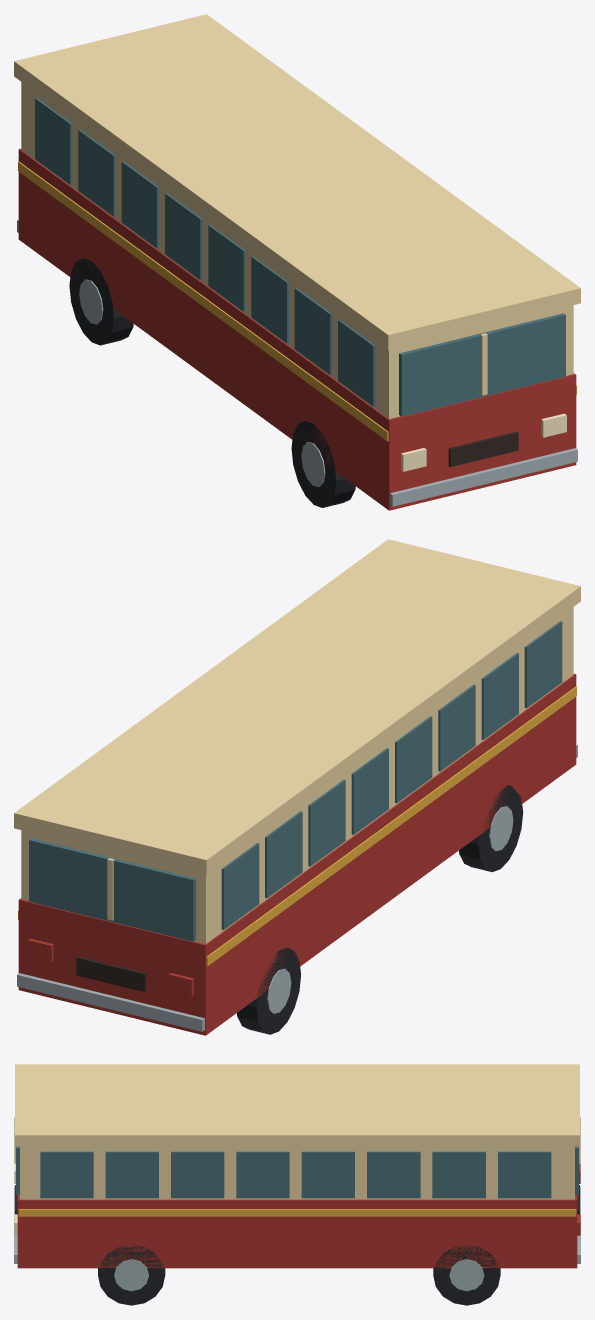
File: Local_Bus.glb
The picture shows the model from 3 angles, top to bottom: view 1: azimuth 30°, elevation 25°; view 2: azimuth 150°, elevation 25°; view 3: azimuth 270°, elevation 25°; orthographic projection. The views are drawn at different scales.
Parts seen in each view (by area): view 1: Local_Bus, Wheel_2, Wheel_1; view 2: Local_Bus, Wheel_2, Wheel_1; view 3: Local_Bus, Wheel_4, Wheel_3.
Boxes of the visible parts, <box> form: Local_Bus: <box>14,14,580,510</box>; Wheel_2: <box>69,258,133,345</box>; Wheel_1: <box>291,421,355,507</box>; Local_Bus: <box>14,539,580,1035</box>; Wheel_2: <box>237,947,300,1034</box>; Wheel_1: <box>459,785,523,872</box>; Local_Bus: <box>14,1064,580,1268</box>; Wheel_4: <box>433,1245,500,1305</box>; Wheel_3: <box>98,1245,165,1305</box>.
Bounding box in the file's own units: 2.39 × 2.69 × 8.07.
